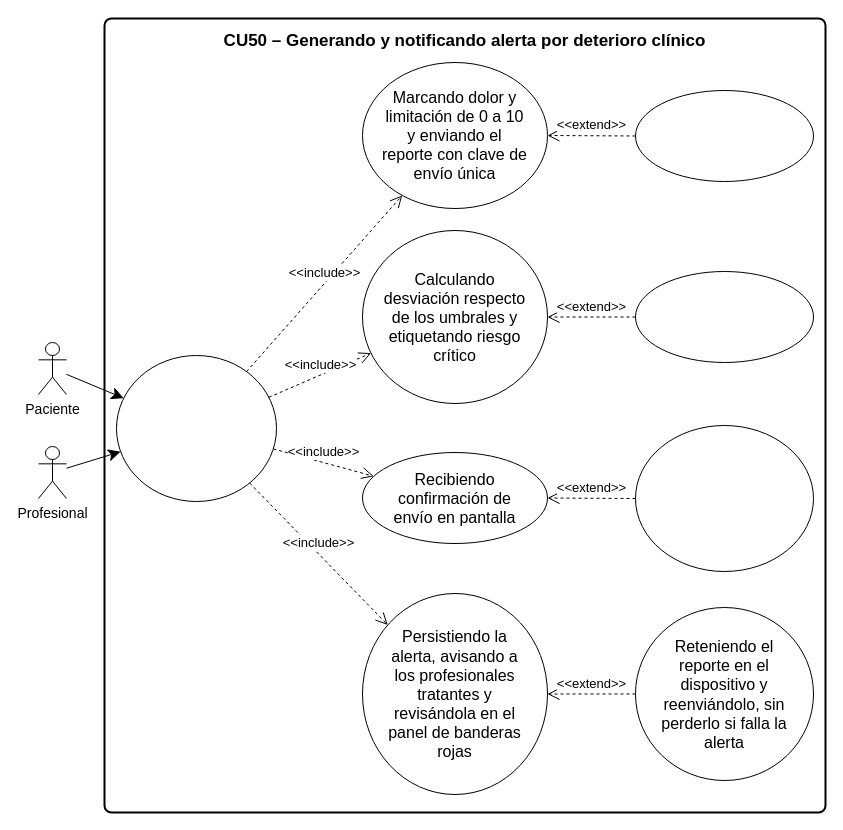
The diagram is 843 pixels wide and 830 high, and some of its shapes have lost their labels. Here are the shapes that lost their labels. From the top down, the centre of each, then its label:
At [724,136]: "Descartando el envío y resaltando campos faltantes".
At [724,316]: "Clasificando evolución como normal".
At [196,428]: "Generando y notificando alerta por deterioro clínico".
At [724,498]: "Conservando el reporte por su clave de envío y registrando el corte en bitácora".
